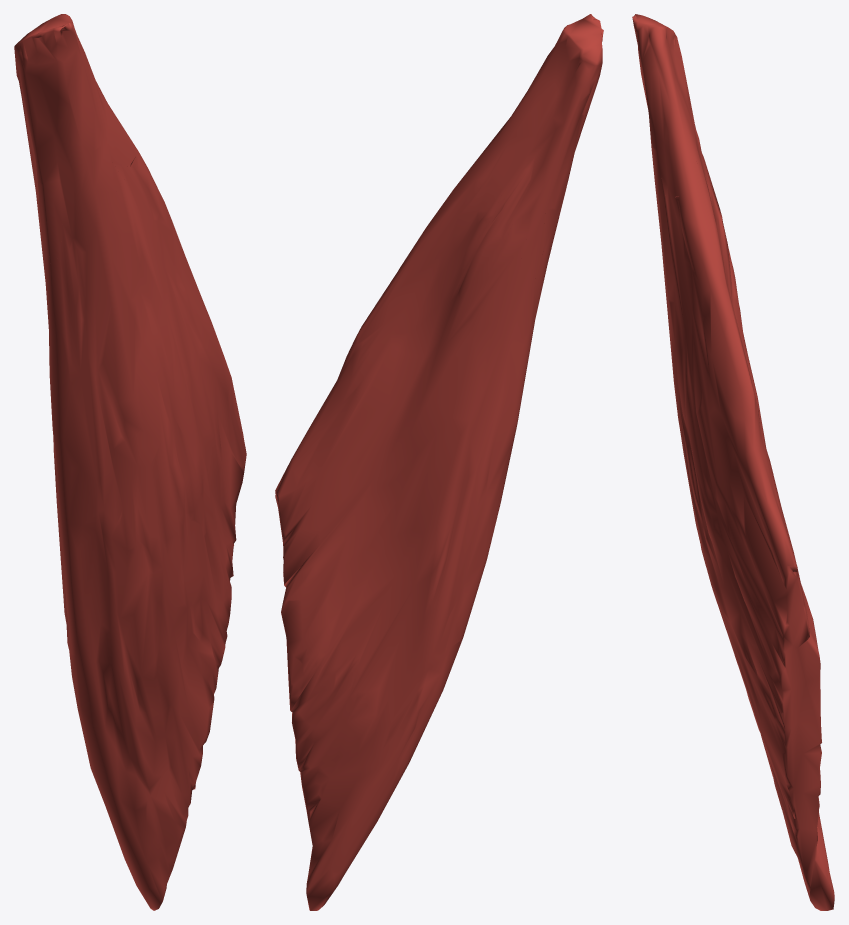
Rendered from musculos-adductor-longus-l.glb.
The picture shows the model from 3 angles, left to right: view 1: azimuth 30°, elevation 25°; view 2: azimuth 150°, elevation 25°; view 3: azimuth 270°, elevation 25°; orthographic projection. The views are drawn at different scales.
Visible parts, largest first — view 1: Adductor longus.l; view 2: Adductor longus.l; view 3: Adductor longus.l.
Part boxes in pixels (x1,y1,x2,y2): Adductor longus.l: [14, 14, 246, 910]; Adductor longus.l: [275, 14, 603, 910]; Adductor longus.l: [632, 14, 834, 910].
Size of the model in its own units: 0.0831 by 0.2648 by 0.0596.
